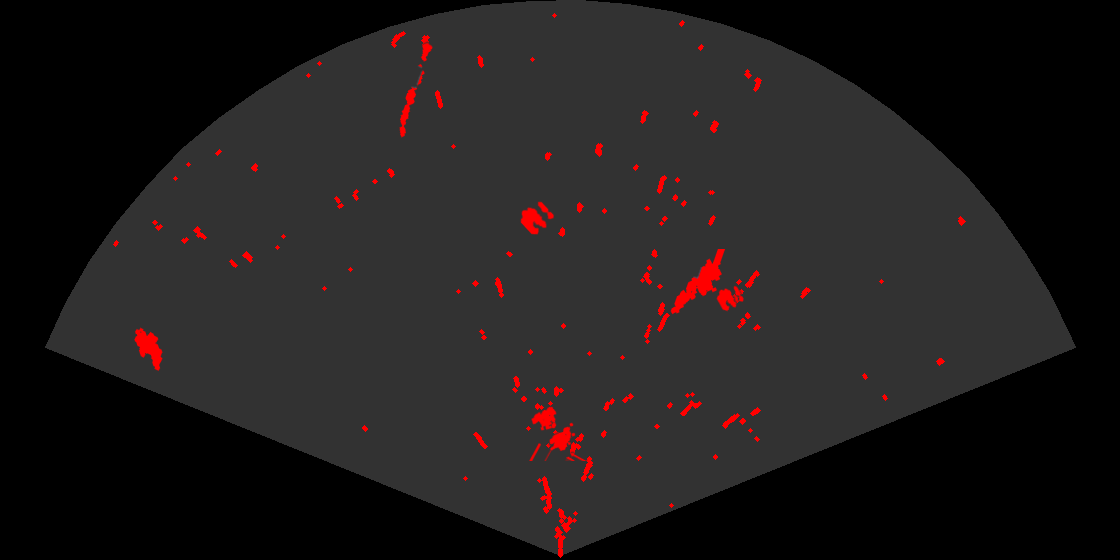AUV: (133, 326, 164, 372)
ball: (519, 200, 556, 236), (715, 284, 745, 313)
cage: (528, 405, 588, 461)
chain: (398, 41, 434, 139)
frogman: (669, 249, 727, 316)
